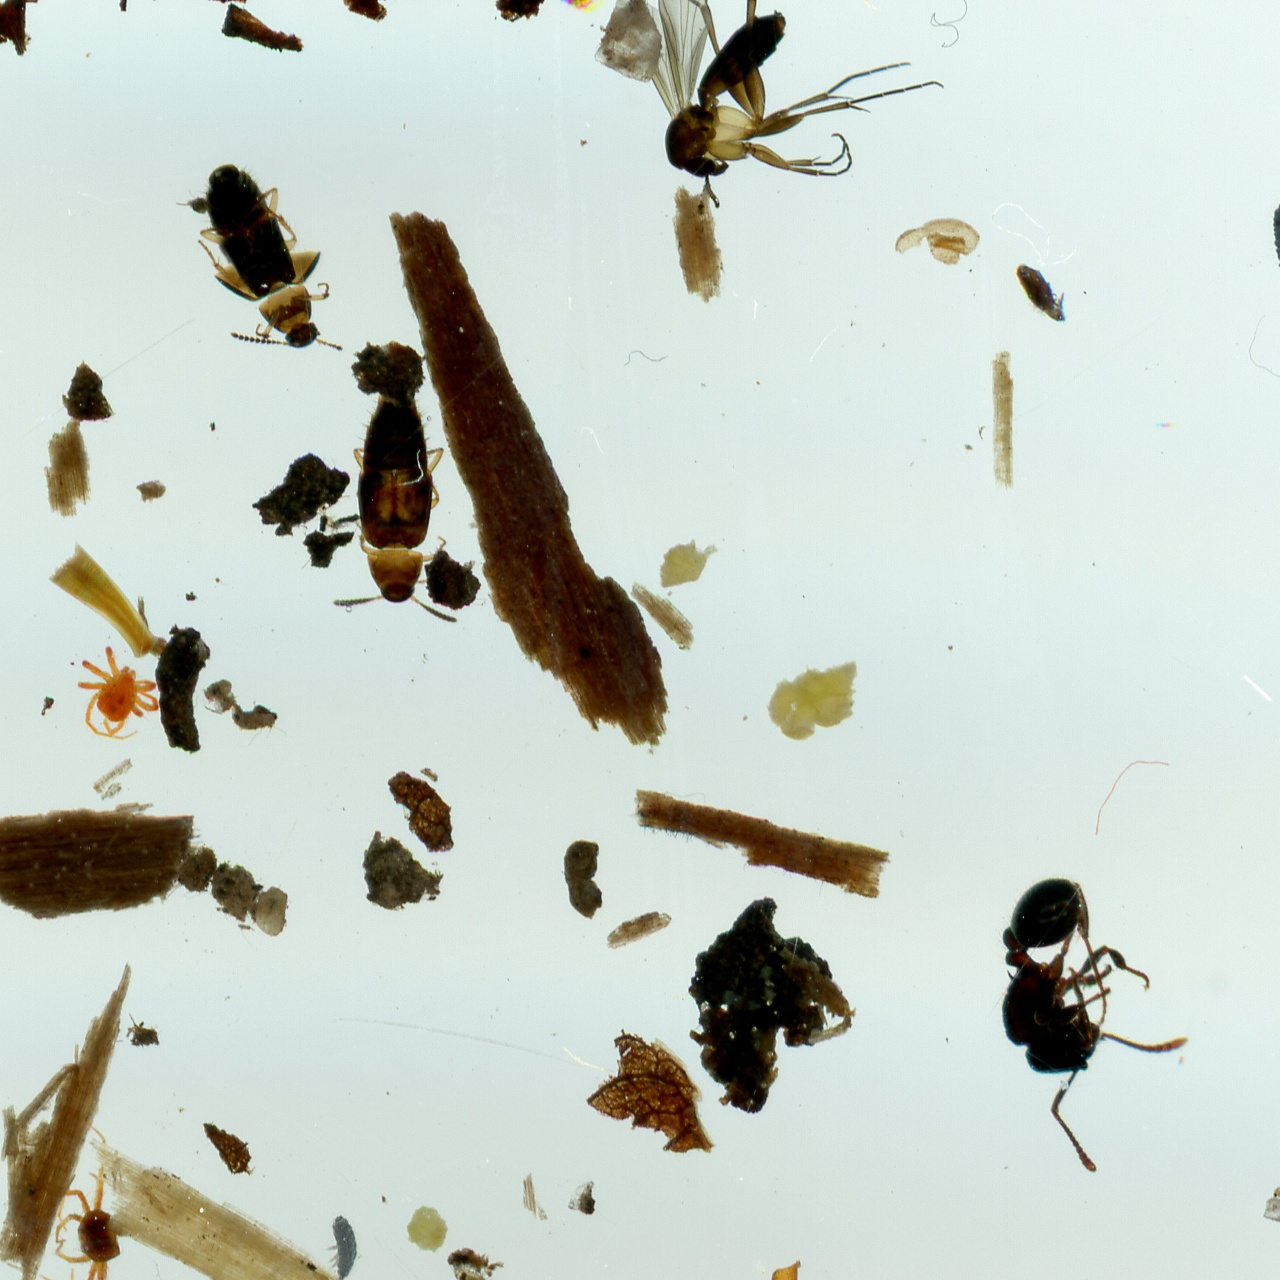arthropod: (604, 0, 957, 214), (989, 873, 1197, 1179), (170, 138, 366, 392), (331, 392, 461, 637), (6, 1128, 126, 1280), (50, 632, 181, 761), (1006, 248, 1083, 339), (324, 1211, 360, 1280), (438, 1248, 507, 1280), (1272, 199, 1280, 269), (554, 0, 608, 10)
